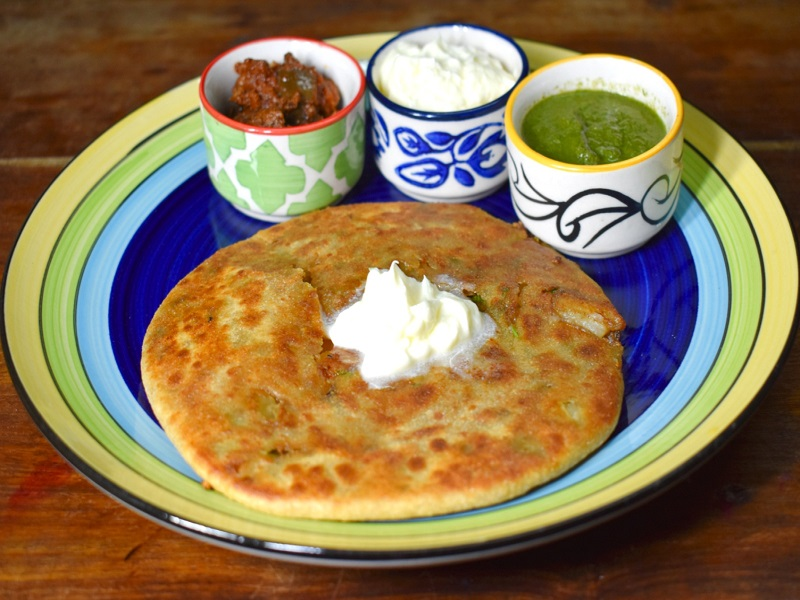aloo_paratha: (139, 201, 632, 521)
